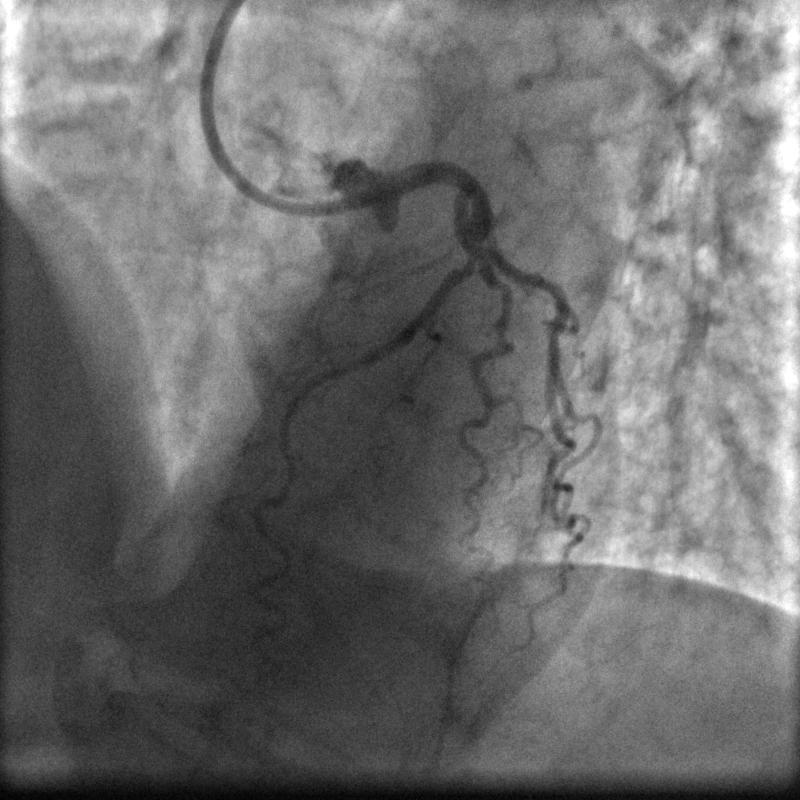Stenosis: (458, 240, 492, 271)
